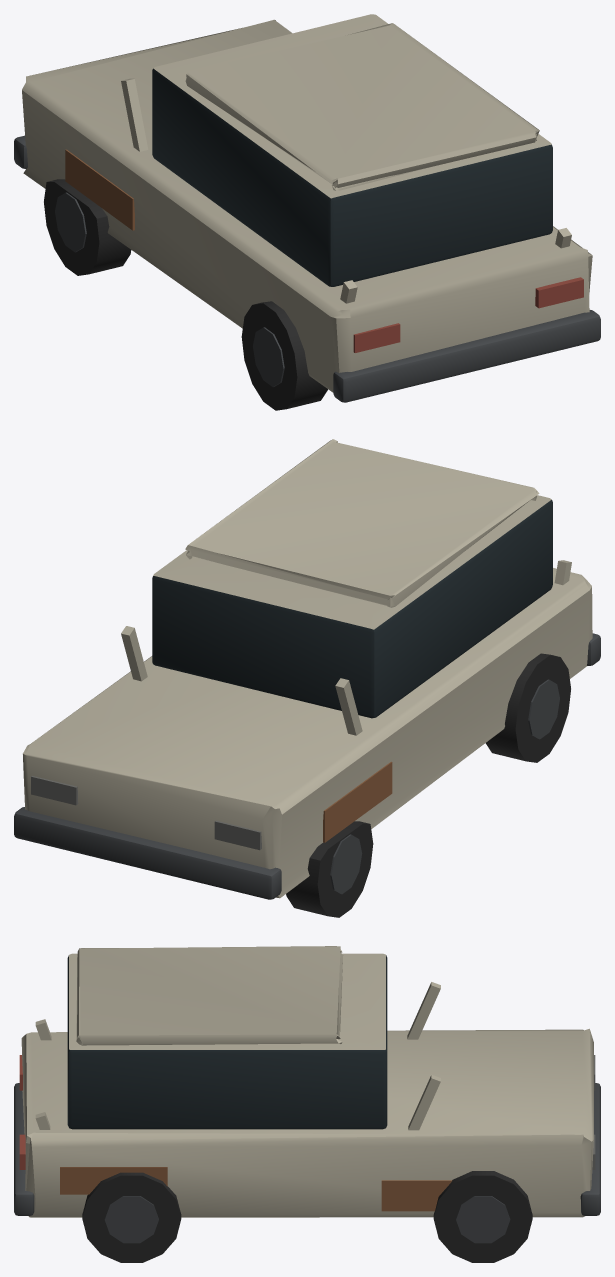
Rendered from ZR_Car_Hatch_Cream.fbx.
The picture shows the model from 3 angles, top to bottom: view 1: azimuth 30°, elevation 25°; view 2: azimuth 150°, elevation 25°; view 3: azimuth 270°, elevation 25°; orthographic projection. The views are drawn at different scales.
Visible parts, largest first — view 1: ZR_Car_Hatch_Cream; view 2: ZR_Car_Hatch_Cream; view 3: ZR_Car_Hatch_Cream.
Part boxes in pixels (x1,y1,x2,y2): ZR_Car_Hatch_Cream: (14, 14, 600, 410); ZR_Car_Hatch_Cream: (14, 439, 600, 917); ZR_Car_Hatch_Cream: (14, 946, 600, 1262).
Size of the model in its own units: 1.95 by 1.69 by 4.04.
